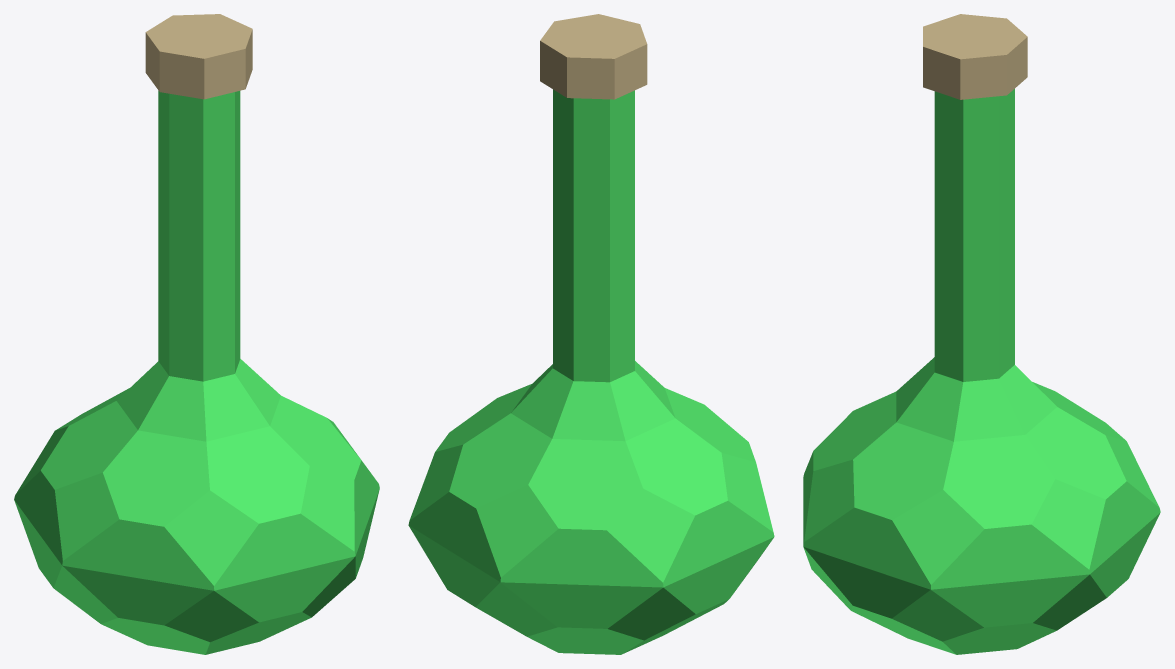
File: LongPotion_25.fbx
3 renders of one model, left to right at view 1: azimuth 30°, elevation 25°; view 2: azimuth 150°, elevation 25°; view 3: azimuth 270°, elevation 25°, orthographic.
Parts seen in each view (by area): view 1: LongPotion_25; view 2: LongPotion_25; view 3: LongPotion_25.
Part boxes in pixels (box(x1,y1,x2,y2)): LongPotion_25: box(14, 14, 379, 654); LongPotion_25: box(408, 14, 774, 654); LongPotion_25: box(803, 14, 1160, 654).
Size of the model in its own units: 13.29 by 23.55 by 12.96.
